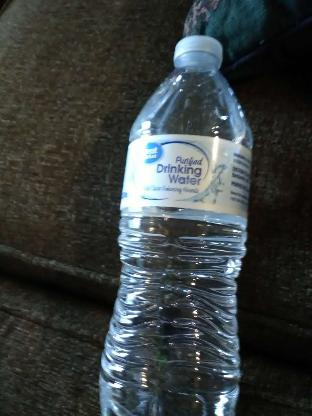Plastic Bottle: (98, 34, 254, 414)
